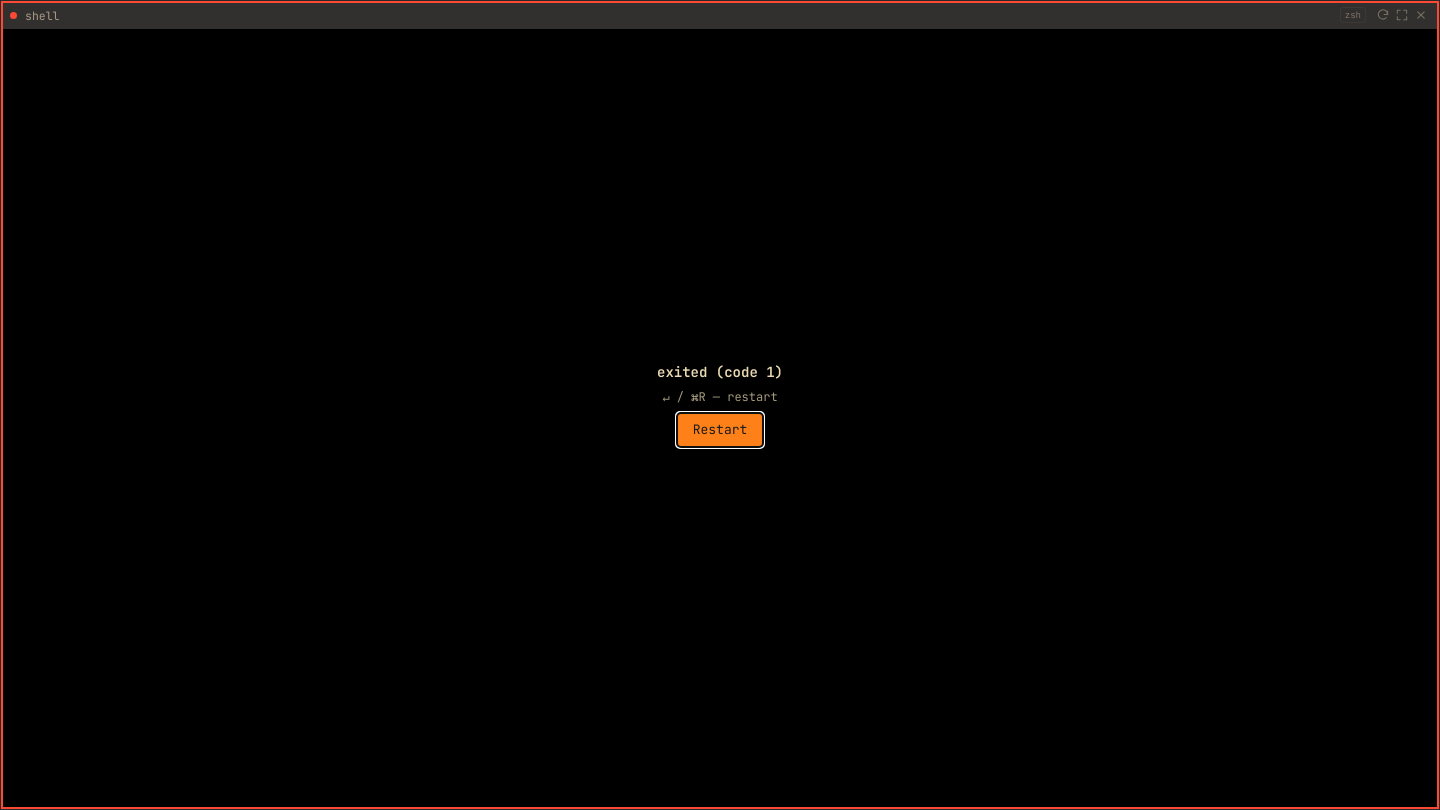
Scenario: TerminalPane exit-overlay › restart button respawns the shell and hides the overlay
The image size is (1440, 810).
Check: the text "exited (code 1)" is shown, box [657,363,783,381]
Step 1. Click the button "Restart" → click(720, 430), box [677,413,763,447]
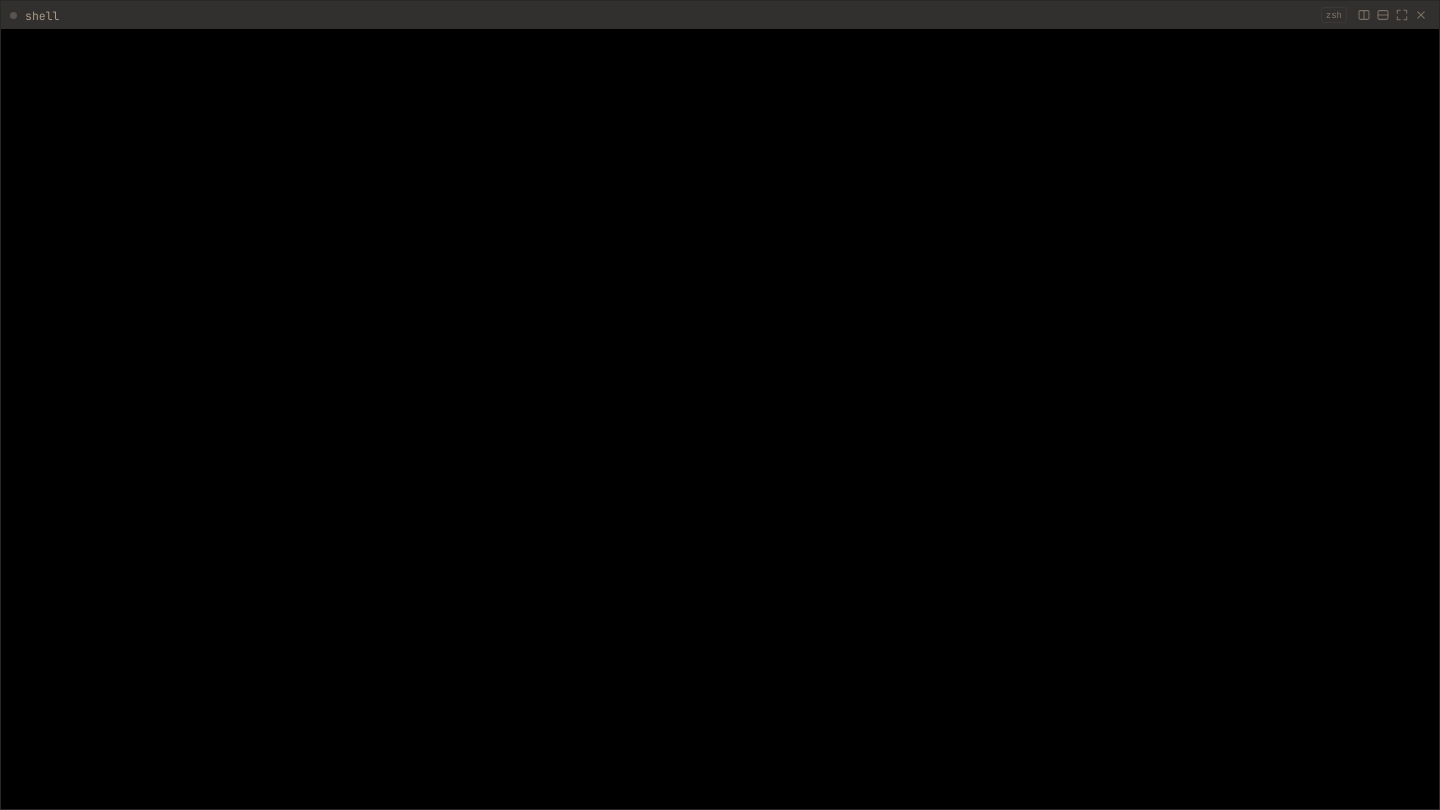
Check: the text "exited (code 1)" is gone
